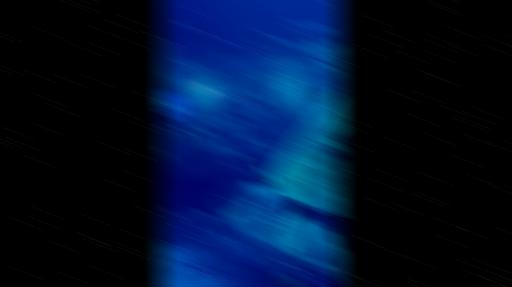Fish: (285, 196, 342, 247), (288, 20, 337, 41), (174, 128, 216, 141), (307, 89, 336, 100), (192, 211, 217, 222), (321, 146, 342, 157), (280, 275, 301, 286), (267, 36, 292, 45), (329, 129, 342, 142), (269, 255, 284, 266), (315, 250, 328, 261), (253, 94, 268, 103), (229, 151, 248, 158), (158, 148, 169, 159), (260, 169, 269, 182), (179, 23, 194, 30), (253, 28, 266, 35), (164, 208, 177, 215), (218, 37, 231, 44), (235, 108, 245, 117), (178, 137, 190, 144), (248, 41, 261, 46), (237, 118, 244, 127), (165, 127, 173, 134), (241, 168, 244, 171)
